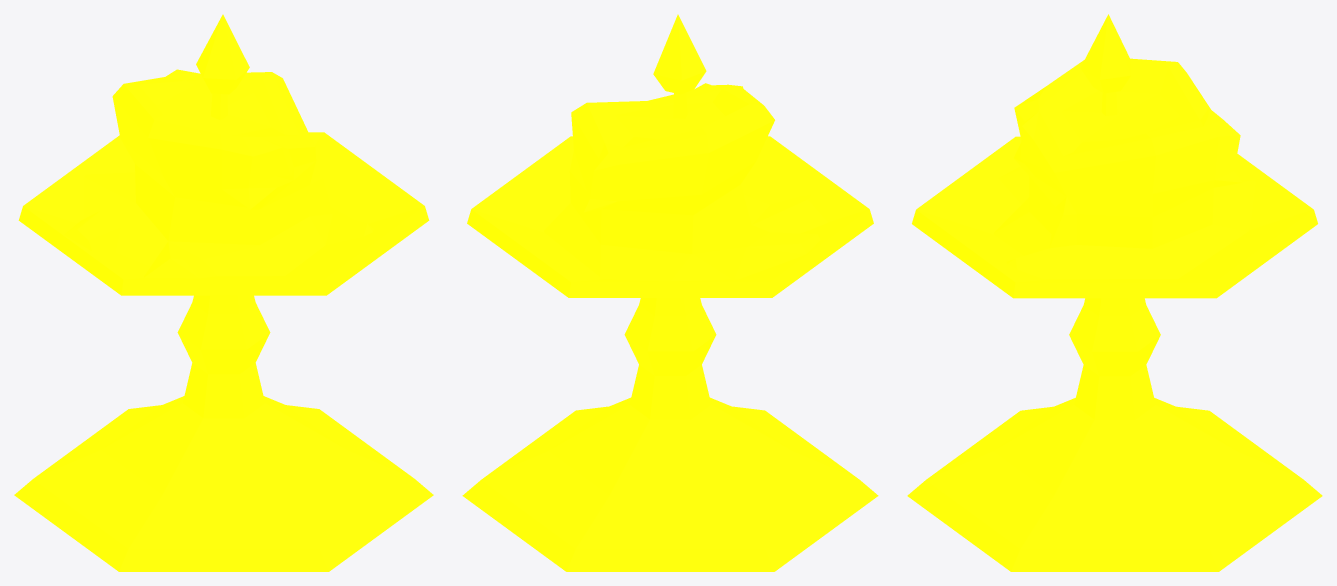
Rendered from candle-holder-short-b-lit-christmas.glb.
3 views of the same model, side by side, from view 1: azimuth 30°, elevation 25°; view 2: azimuth 150°, elevation 25°; view 3: azimuth 270°, elevation 25° (orthographic).
Parts seen in each view (by area): view 1: candle_holder_short_b_lit_christmas; view 2: candle_holder_short_b_lit_christmas; view 3: candle_holder_short_b_lit_christmas.
Boxes of the visible parts, bbox=[...] form: candle_holder_short_b_lit_christmas: bbox=[14, 14, 433, 571]; candle_holder_short_b_lit_christmas: bbox=[462, 14, 878, 571]; candle_holder_short_b_lit_christmas: bbox=[907, 14, 1322, 571].
Bounding box in the file's own units: 0.1495 × 0.2199 × 0.1727.
Materials: 1 (1 with a texture image).
